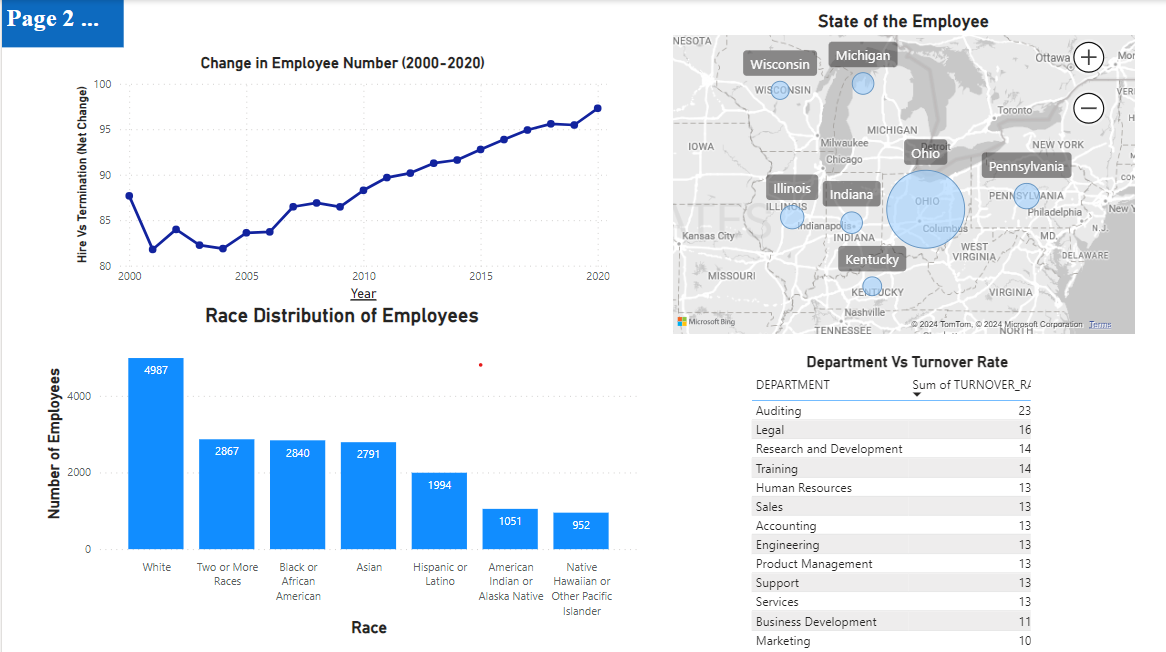

Layout of this report page (visuals, bound fields, positions):
{"tool":"powerbi","page":{"name":"Page 2","canvas":[1280,720],"ordinal":1},"visuals":[{"type":"clusteredColumnChart","title":"Race Distribution of Employees","fields":{"Y":["Sum(race.NUMBER)"],"Category":["race.RACE"]},"box":[42.8,333.7,661.3,370.4],"z":0},{"type":"map","title":"State of the Employee","fields":{"Category":["location_state.LOCATION_STATE"],"Size":["Sum(location_state.COUNT)"]},"box":[731.7,11.7,516.7,360],"z":1},{"type":"tableEx","title":"Department Vs Turnover Rate","fields":{"Values":["turnover_rate.DEPARTMENT","Sum(turnover_rate.TURNOVER_RATE)"]},"box":[816.7,386.7,355,333.3],"z":2},{"type":"lineChart","title":"Change in Employee Number (2000-2020)","fields":{"Category":["employee_change.YEAR"],"Y":["Sum(employee_change.NET_CHANGE_PERCENT)"]},"box":[75,58.3,596.7,276.7],"z":3},{"type":"textbox","box":[1130,386,150,334],"z":4},{"type":"textbox","box":[0,0,133.3,51.7],"z":5}]}

Visuals, with their boxes in screenshot pixels (x1, y1, x2, y2), scaled from the page's 1280x720 canvas onto the 1166x652 screenshot:
"Race Distribution of Employees" clusteredColumnChart: 39, 302, 641, 638
"State of the Employee" map: 667, 11, 1137, 337
"Department Vs Turnover Rate" tableEx: 744, 350, 1067, 651
"Change in Employee Number (2000-2020)" lineChart: 68, 53, 612, 303
textbox: 1029, 350, 1165, 651
textbox: 0, 0, 121, 47
